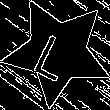L_NE: (33, 22, 82, 81)
